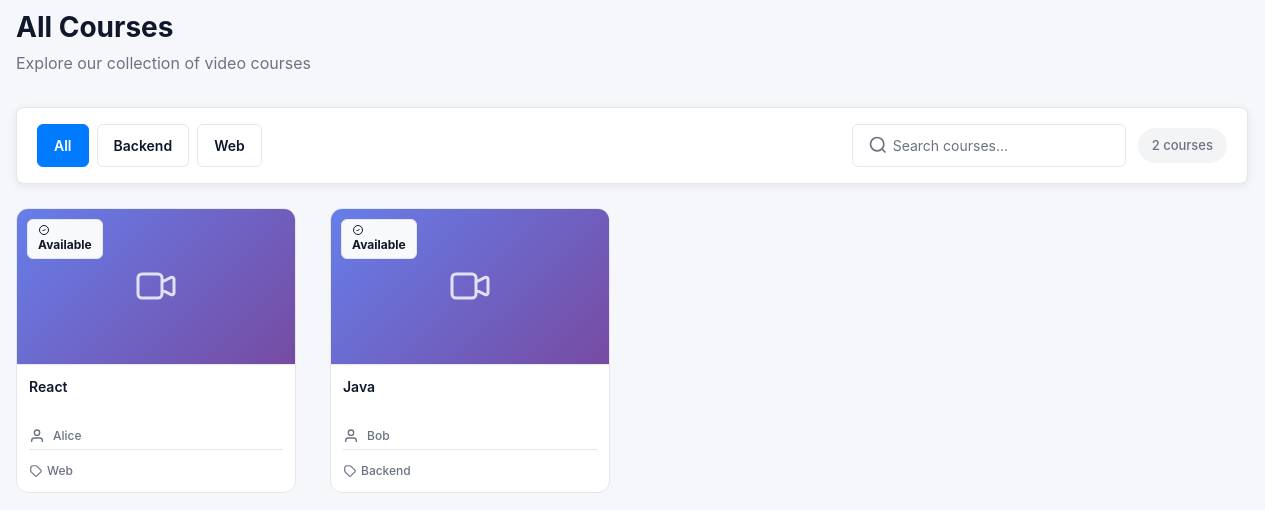
Test: AllCourses › filters by search query
Expected: the heading "React" is shown, [29,378,68,395]
Type "java" into the field with placeholder "Search courses...".
click(989, 145); type("java")  # box [852,124,1126,167]
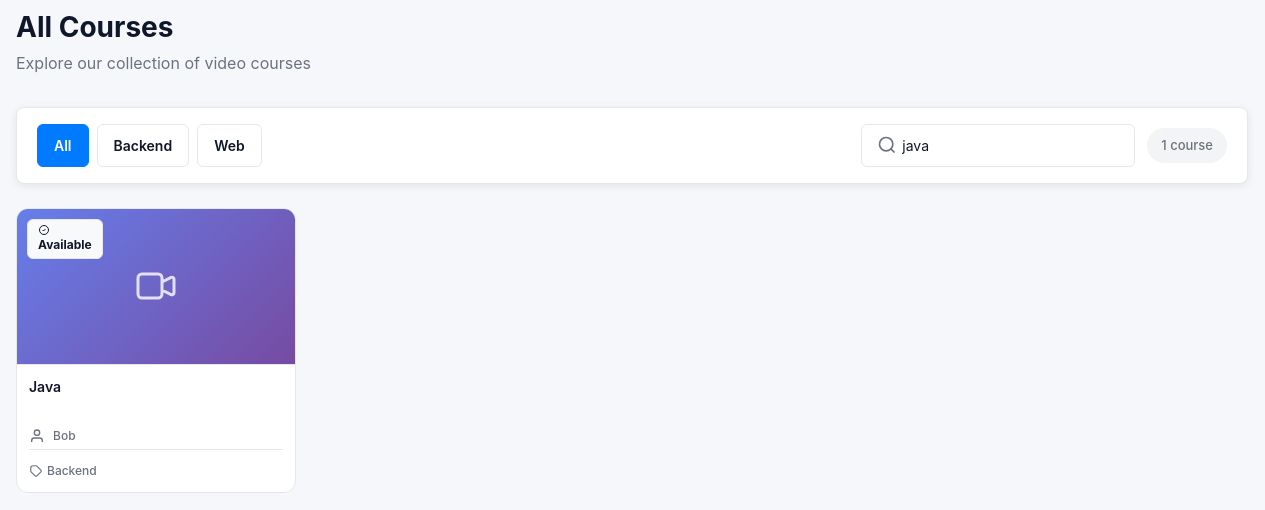
Expected: the heading "Java" is shown, [29,378,61,395]
Now the link "React" is gone
